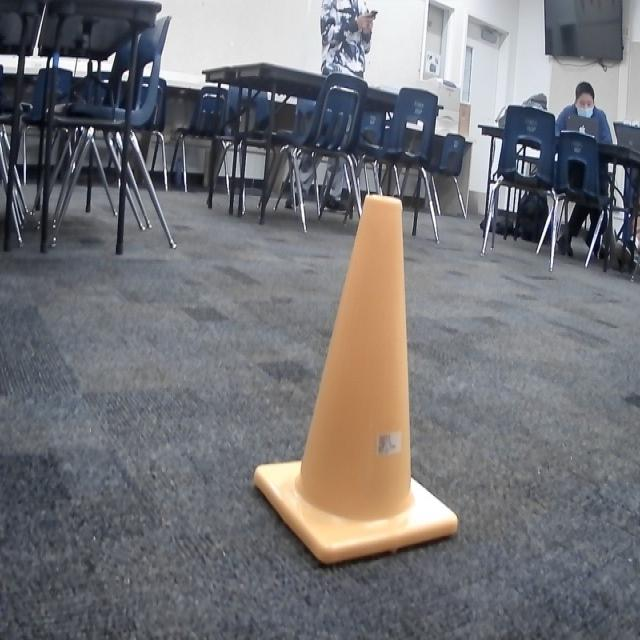cone: (250, 191, 464, 578)
